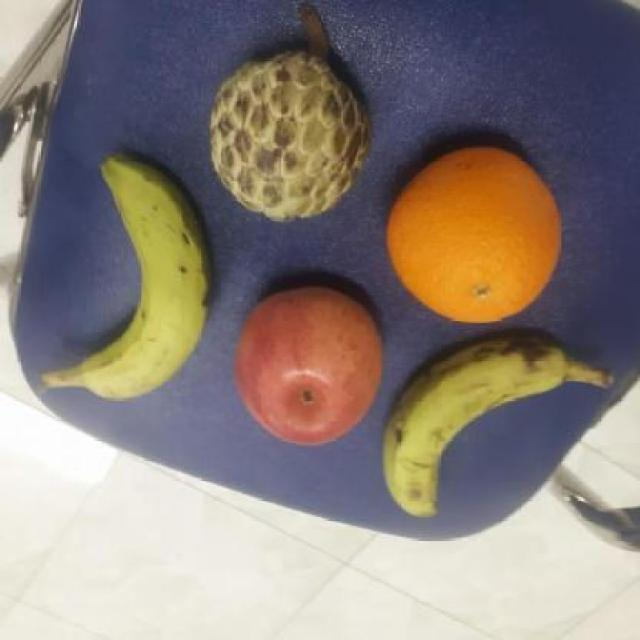apple: (231, 282, 387, 446)
banana: (378, 330, 569, 524), (72, 151, 214, 405)
oren: (386, 142, 569, 331)
sugar apple: (203, 45, 380, 220)
